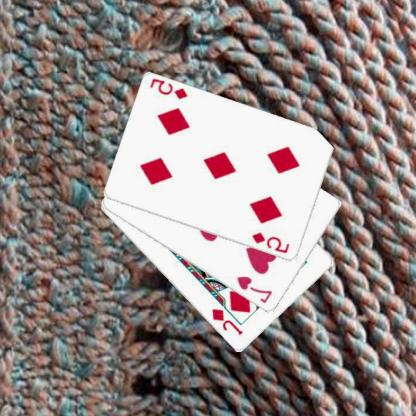5D: (251, 230, 293, 255), (149, 76, 191, 101)
7H: (235, 274, 276, 305)
JD: (211, 306, 246, 337)
